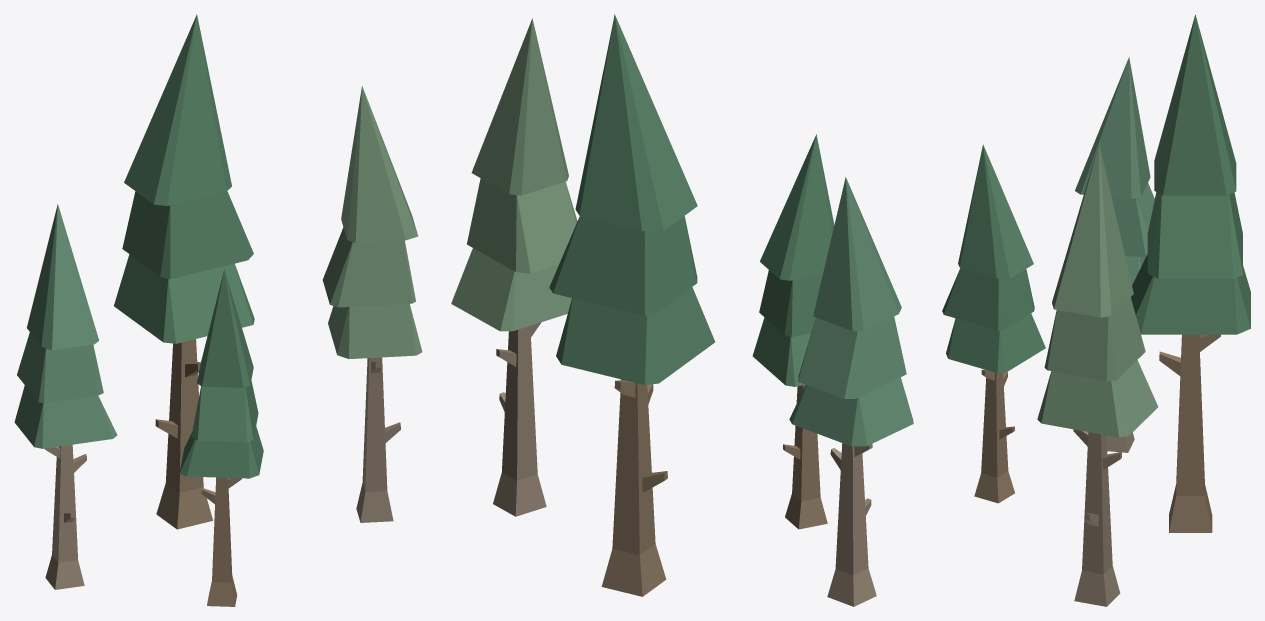
File: veg_conifer_grove.glb
The picture shows the model from 3 angles, left to right: view 1: azimuth 30°, elevation 25°; view 2: azimuth 150°, elevation 25°; view 3: azimuth 270°, elevation 25°; orthographic projection. The views are drawn at different scales.
Parts seen in each view (by area): view 1: clump_0, clump_2, clump_1, clump_3; view 2: clump_0, clump_2, clump_1, clump_3; view 3: clump_0, clump_2, clump_3, clump_1.
Part boxes in pixels (<box>): clump_0: <box>114,14,254,529</box>; clump_2: <box>322,86,422,522</box>; clump_1: <box>14,204,117,589</box>; clump_3: <box>179,269,263,606</box>; clump_0: <box>549,14,714,596</box>; clump_2: <box>451,18,577,516</box>; clump_1: <box>789,177,913,606</box>; clump_3: <box>752,134,834,529</box>; clump_0: <box>1131,14,1250,532</box>; clump_2: <box>1037,143,1158,606</box>; clump_3: <box>942,144,1045,503</box>; clump_1: <box>1075,57,1154,452</box>.
Bounding box in the file's own units: 1.51 × 1.84 × 0.9932.
